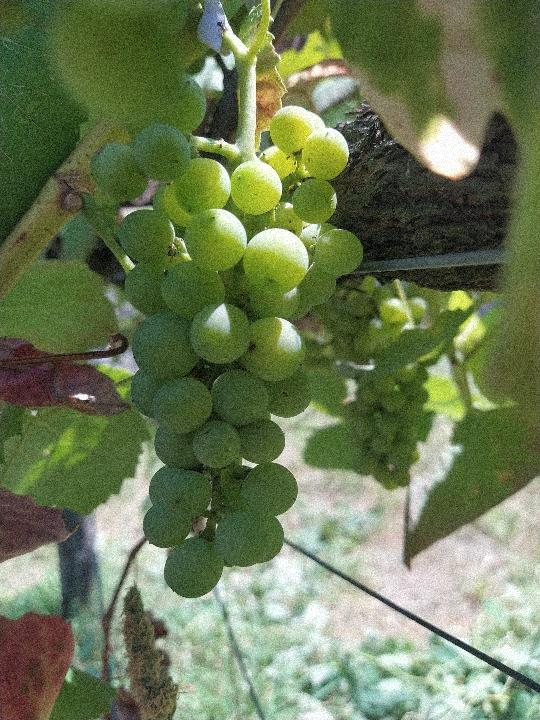grape: (85, 102, 367, 600)
